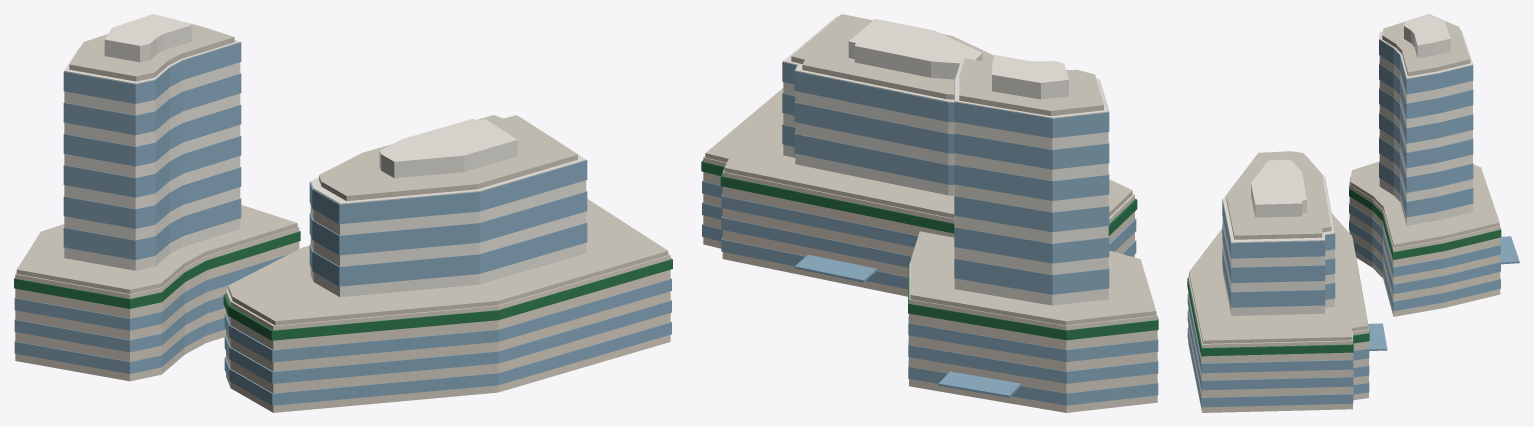
The model's file is dagon_center.glb.
3 views of the same model, side by side, from view 1: azimuth 30°, elevation 25°; view 2: azimuth 150°, elevation 25°; view 3: azimuth 270°, elevation 25° (orthographic). The views are drawn at different scales.
Parts seen in each view (by area): view 1: part; view 2: part; view 3: part.
Boxes of the visible parts, bbox=[...] form: part: bbox=[14, 14, 672, 412]; part: bbox=[701, 14, 1158, 412]; part: bbox=[1187, 14, 1519, 412].
Bounding box in the file's own units: 4064252 × 2267607 × 2891254.
